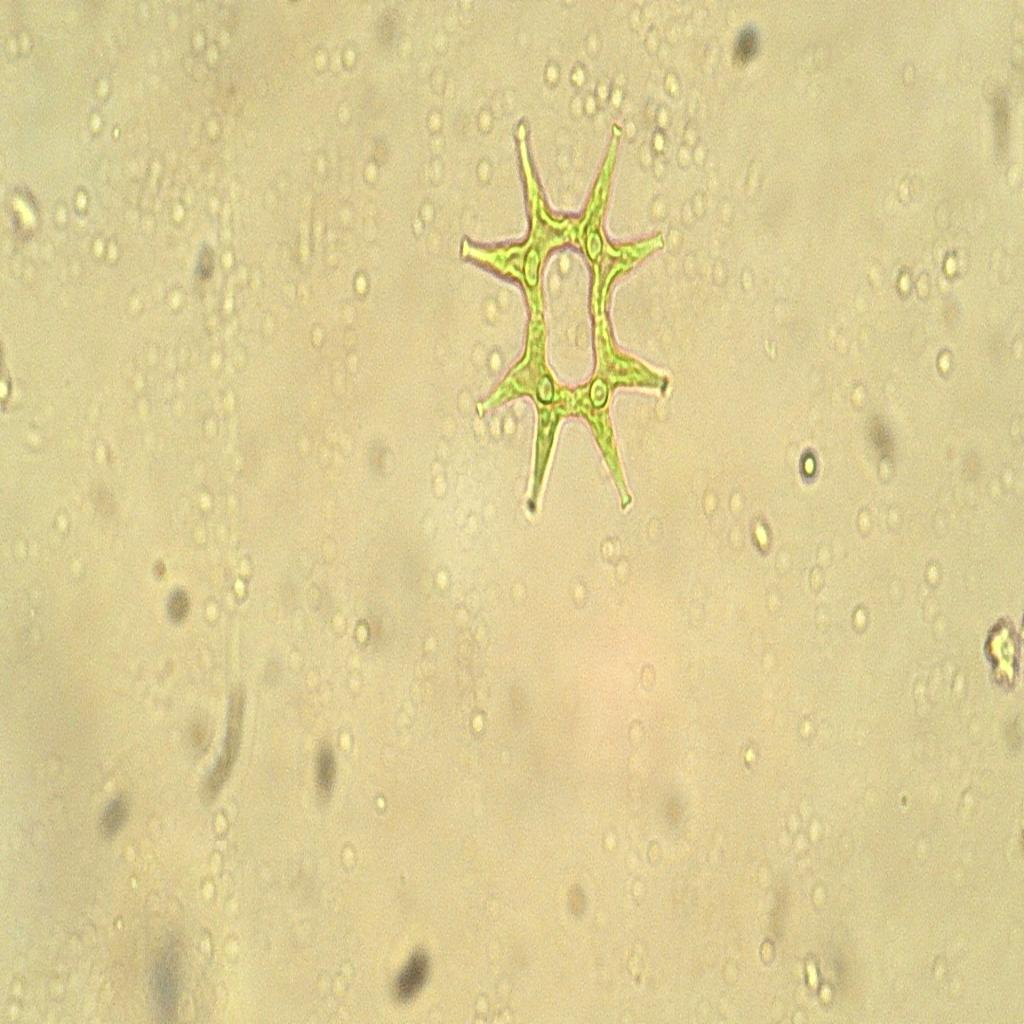Pediastrum_75O: (456, 112, 689, 532)
